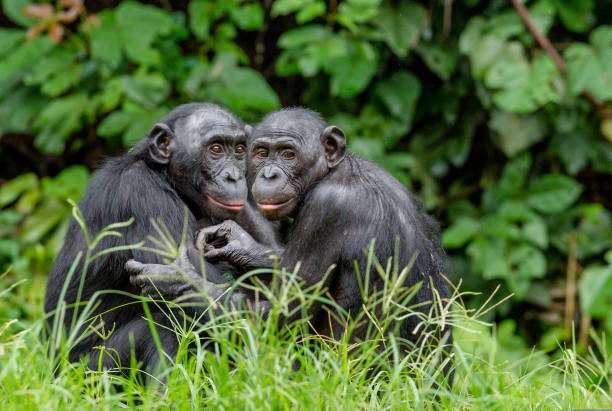chimpanzee: (119, 89, 251, 232), (234, 93, 351, 218)
